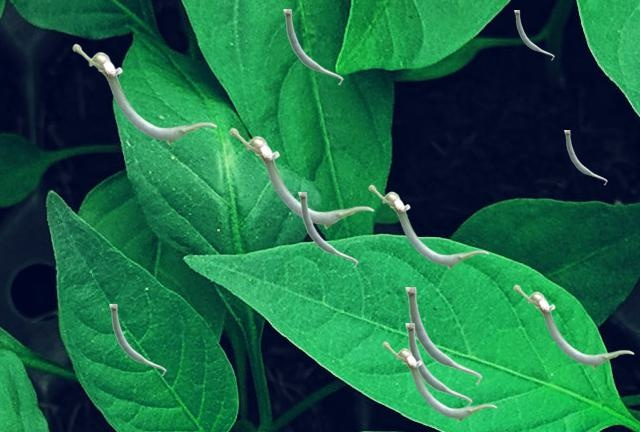french_bean: (229, 127, 373, 228), (72, 43, 216, 144), (368, 184, 488, 268), (513, 284, 633, 368), (382, 341, 496, 421), (405, 287, 481, 384), (405, 323, 471, 405), (283, 9, 342, 84), (298, 192, 357, 267), (109, 304, 165, 375), (564, 130, 606, 184), (514, 10, 553, 59)
